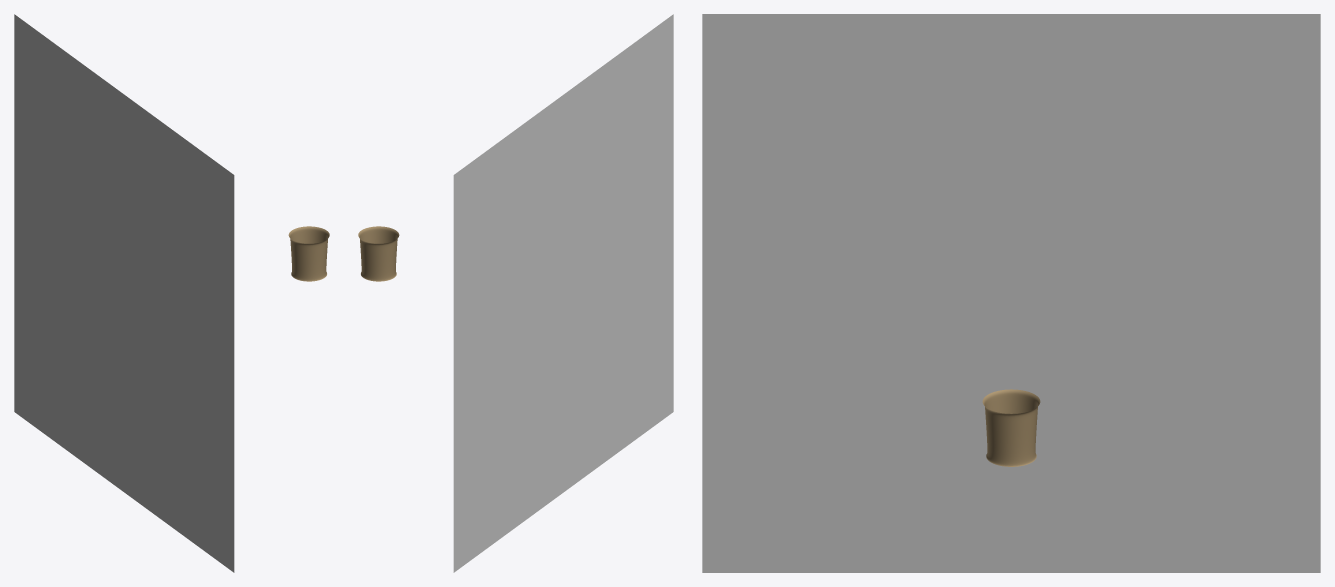
File: thung rac.fbx
3 renders of one model, left to right at view 1: azimuth 30°, elevation 25°; view 2: azimuth 150°, elevation 25°; view 3: azimuth 270°, elevation 25°, orthographic. The views are drawn at different scales.
Parts seen in each view (by area): view 1: 78144960_3082834488412864_7237178803254984704_o, Cylinder; view 2: 78144960_3082834488412864_7237178803254984704_o, Cylinder; view 3: 78144960_3082834488412864_7237178803254984704_o, Cylinder.
Part boxes in pixels (bbox=[...]): 78144960_3082834488412864_7237178803254984704_o: bbox=[14, 14, 234, 572]; Cylinder: bbox=[288, 226, 329, 281]; 78144960_3082834488412864_7237178803254984704_o: bbox=[453, 14, 673, 572]; Cylinder: bbox=[358, 226, 399, 281]; 78144960_3082834488412864_7237178803254984704_o: bbox=[702, 14, 1320, 572]; Cylinder: bbox=[982, 389, 1040, 466].
Size of the model in its own units: 1134 by 2126 by 2131.
